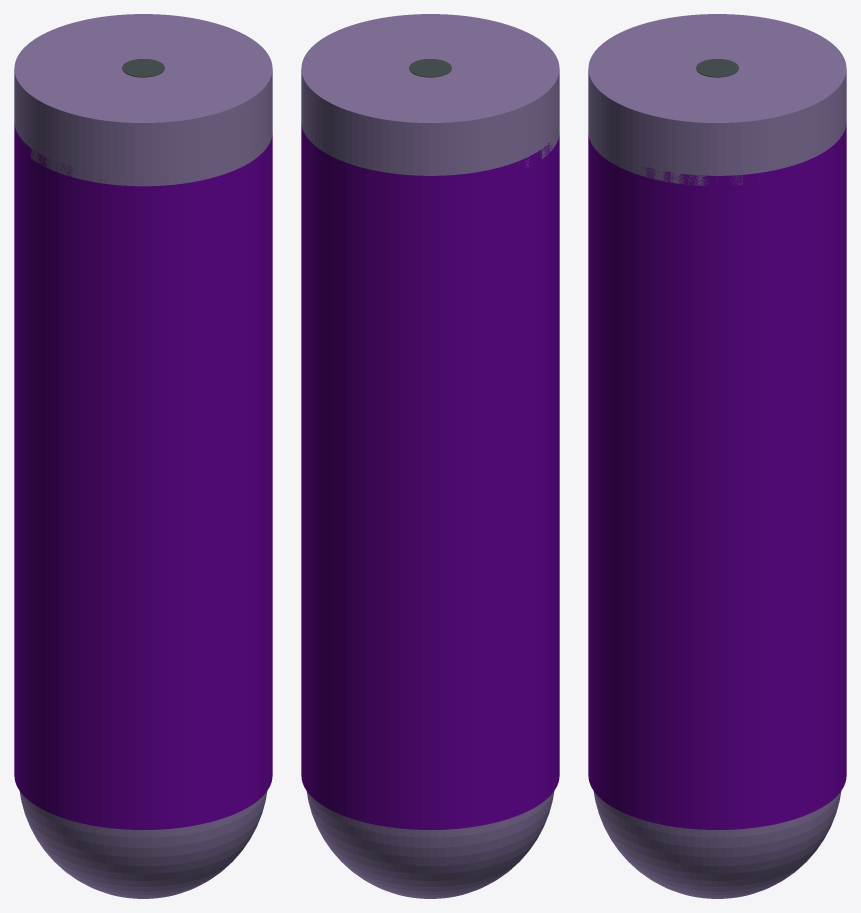
The model's file is lazer.fbx.
The picture shows the model from 3 angles, left to right: view 1: azimuth 30°, elevation 25°; view 2: azimuth 150°, elevation 25°; view 3: azimuth 270°, elevation 25°; orthographic projection.
Visible parts, largest first — view 1: Cylinder.002, Cylinder.004, Sphere.004, Cylinder.003; view 2: Cylinder.002, Cylinder.004, Sphere.004, Cylinder.003; view 3: Cylinder.002, Cylinder.004, Sphere.004, Cylinder.003.
Boxes of the visible parts, x1,y1,x2,y2 form: Cylinder.002: [14, 123, 272, 829]; Cylinder.004: [14, 14, 272, 186]; Sphere.004: [19, 791, 267, 898]; Cylinder.003: [122, 59, 164, 77]; Cylinder.002: [301, 123, 559, 829]; Cylinder.004: [301, 14, 559, 175]; Sphere.004: [306, 791, 554, 898]; Cylinder.003: [409, 59, 451, 77]; Cylinder.002: [588, 123, 846, 829]; Cylinder.004: [588, 14, 846, 185]; Sphere.004: [593, 791, 841, 898]; Cylinder.003: [696, 59, 738, 77].
Size of the model in its own units: 44.13 by 155 by 44.13.
